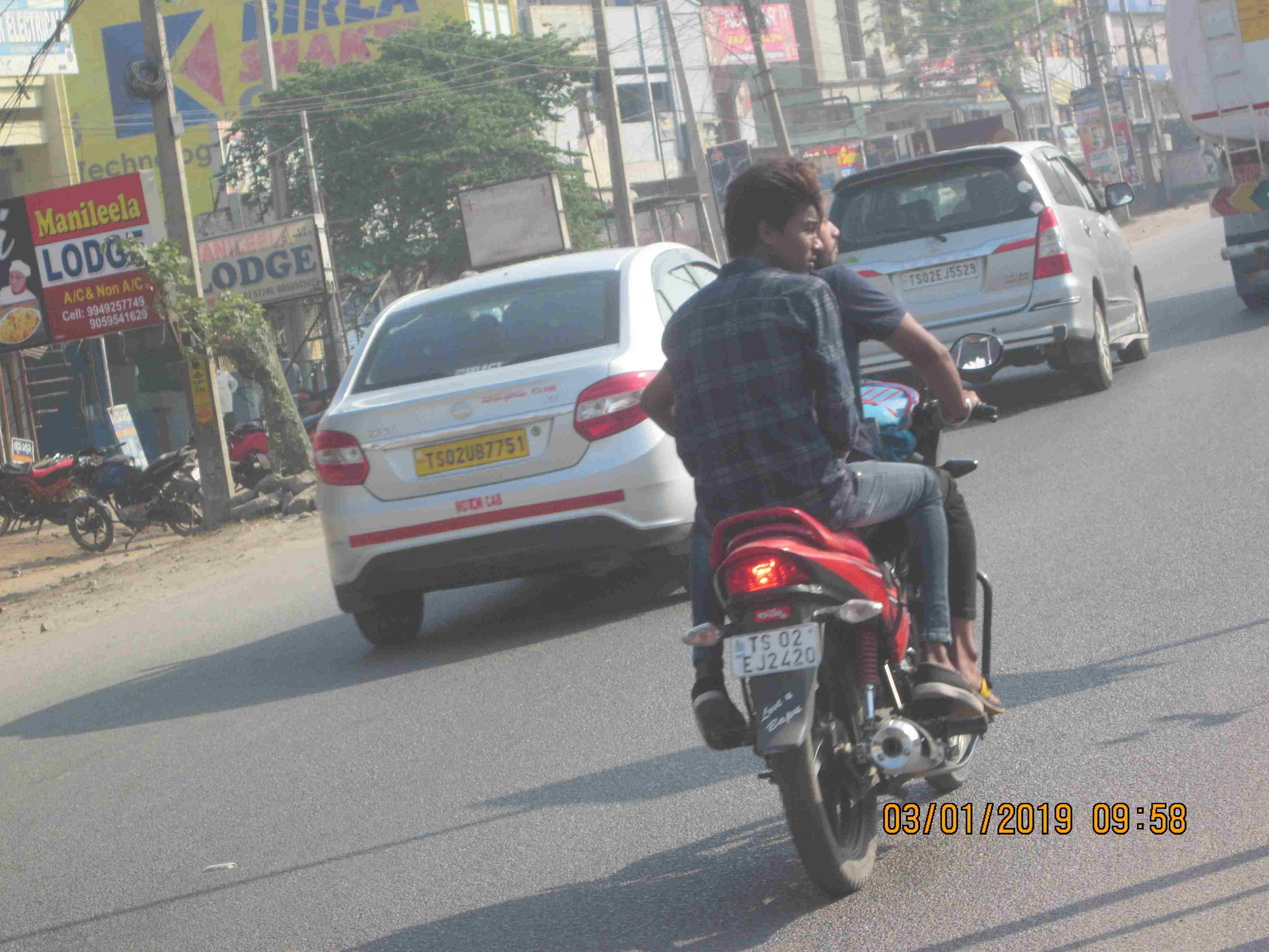plate: (720, 616, 833, 675)
